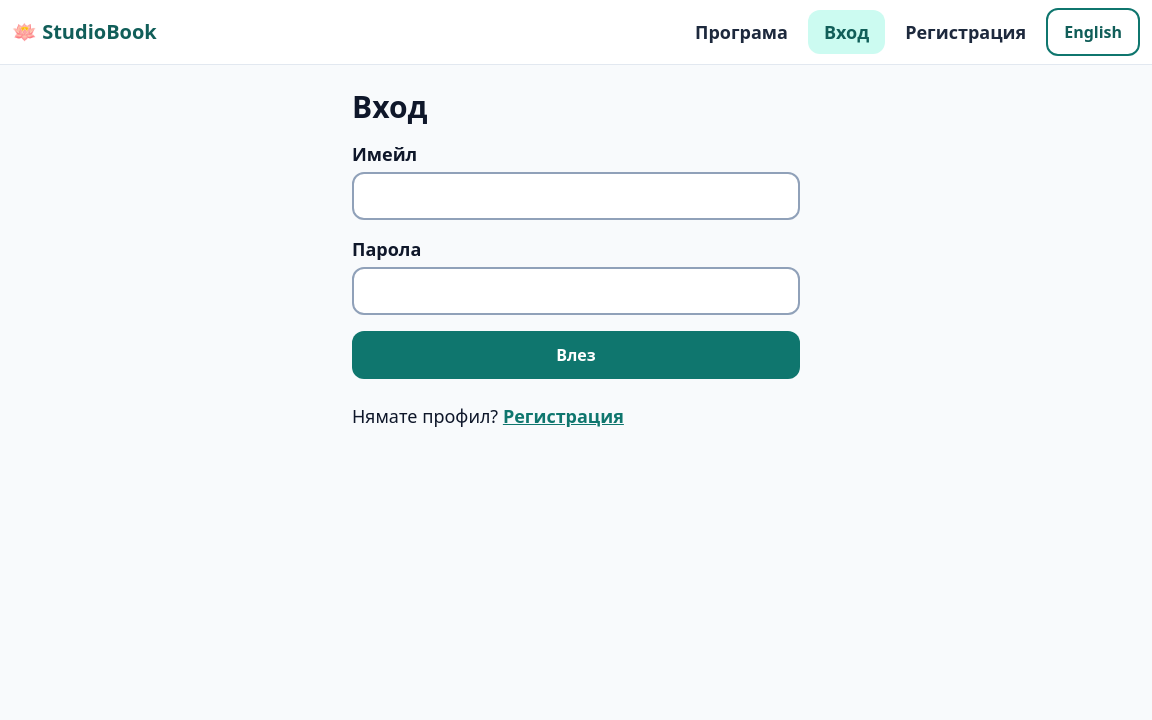
Test: App routing and auth › AC-3: wrong credentials show a generic message
Type "a@b.bg" into the field labelled "Имейл" at (576, 196), box [352, 172, 800, 220]
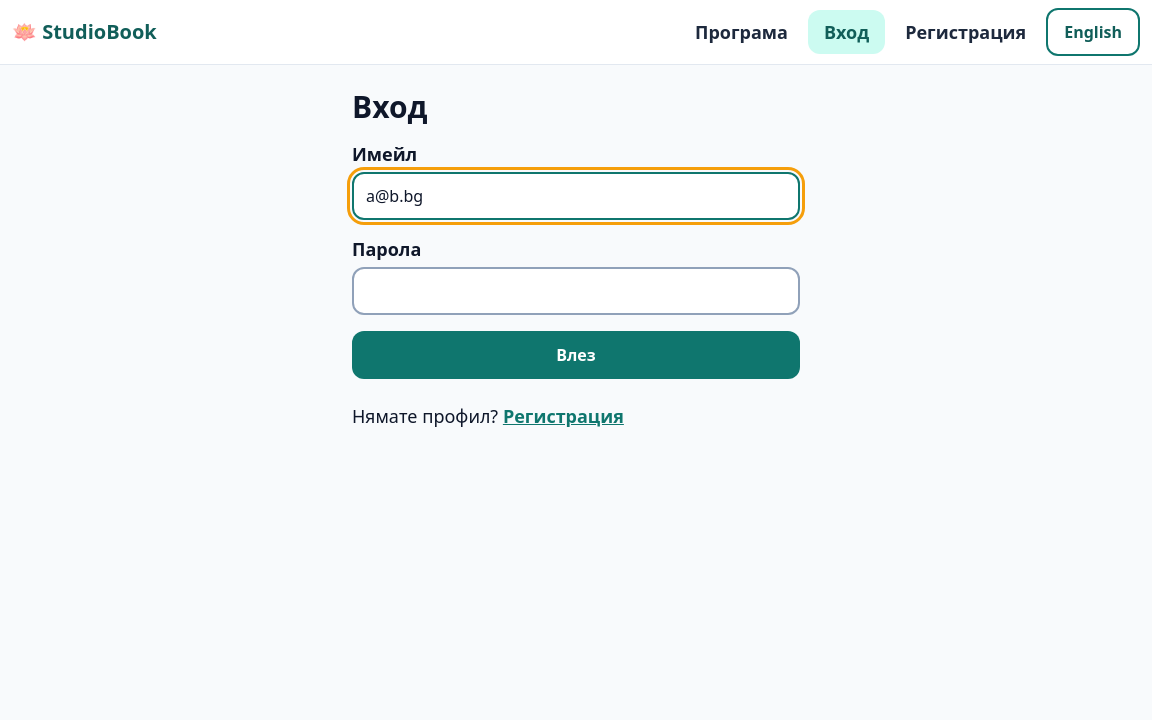
Type "wrongwrong" into the password field labelled "Парола" at (576, 291), box [352, 267, 800, 315]
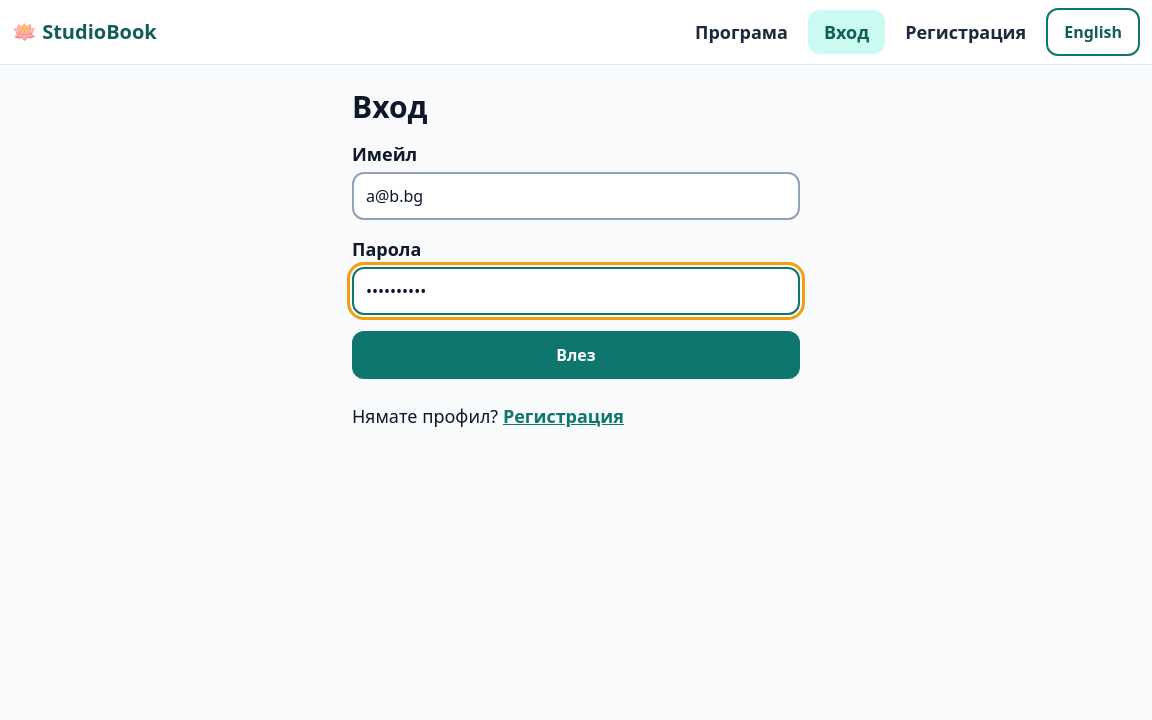
Click the button "Влез" at (576, 355), box [352, 331, 800, 379]
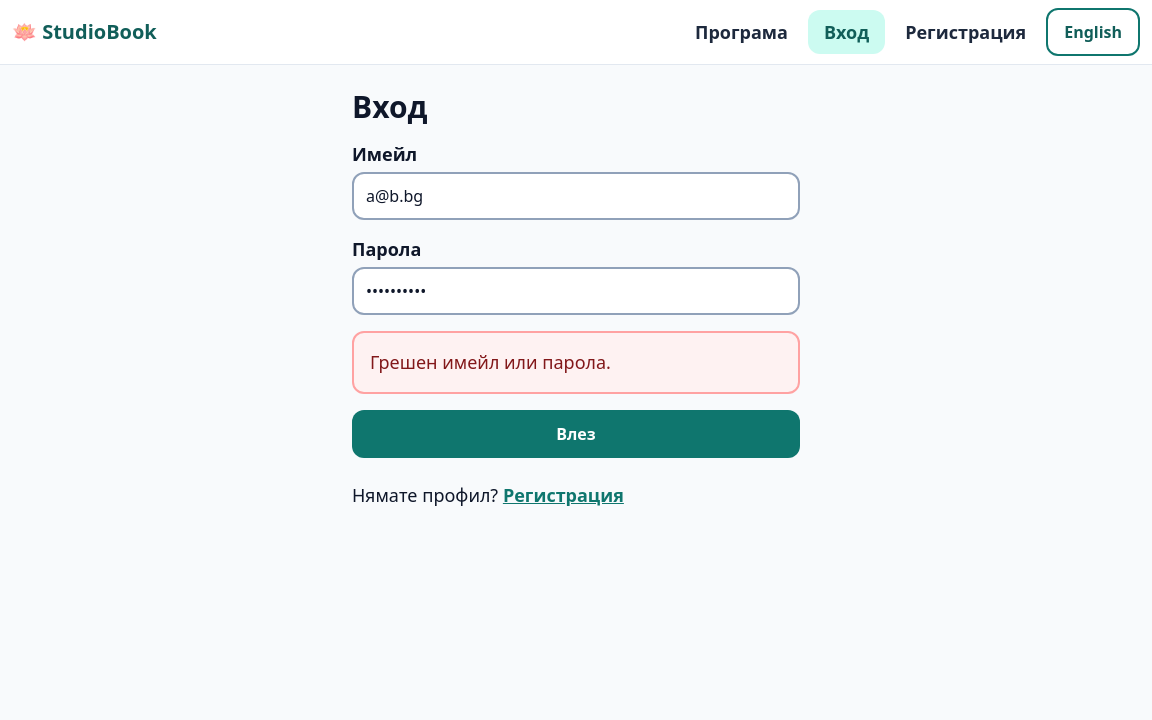
Expected: the message reads "Грешен имейл или парола.", [370, 350, 611, 374]
